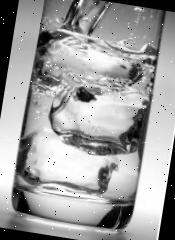glass: (8, 0, 166, 238)
